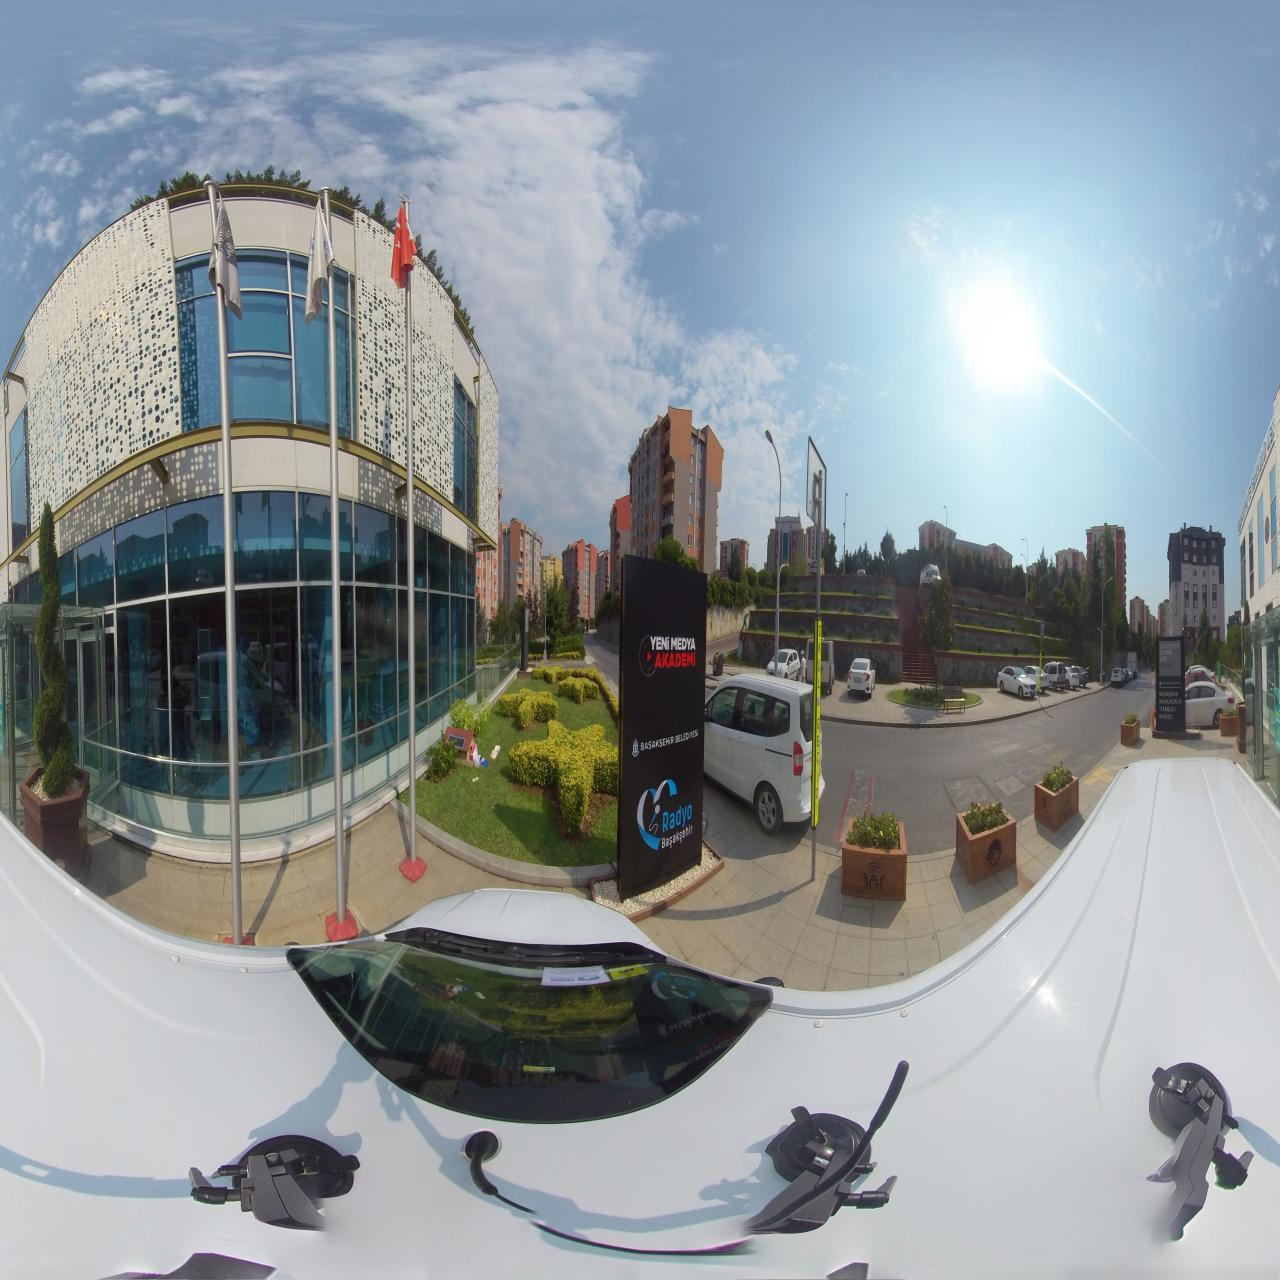SignStore: (1238, 413, 1274, 535)
